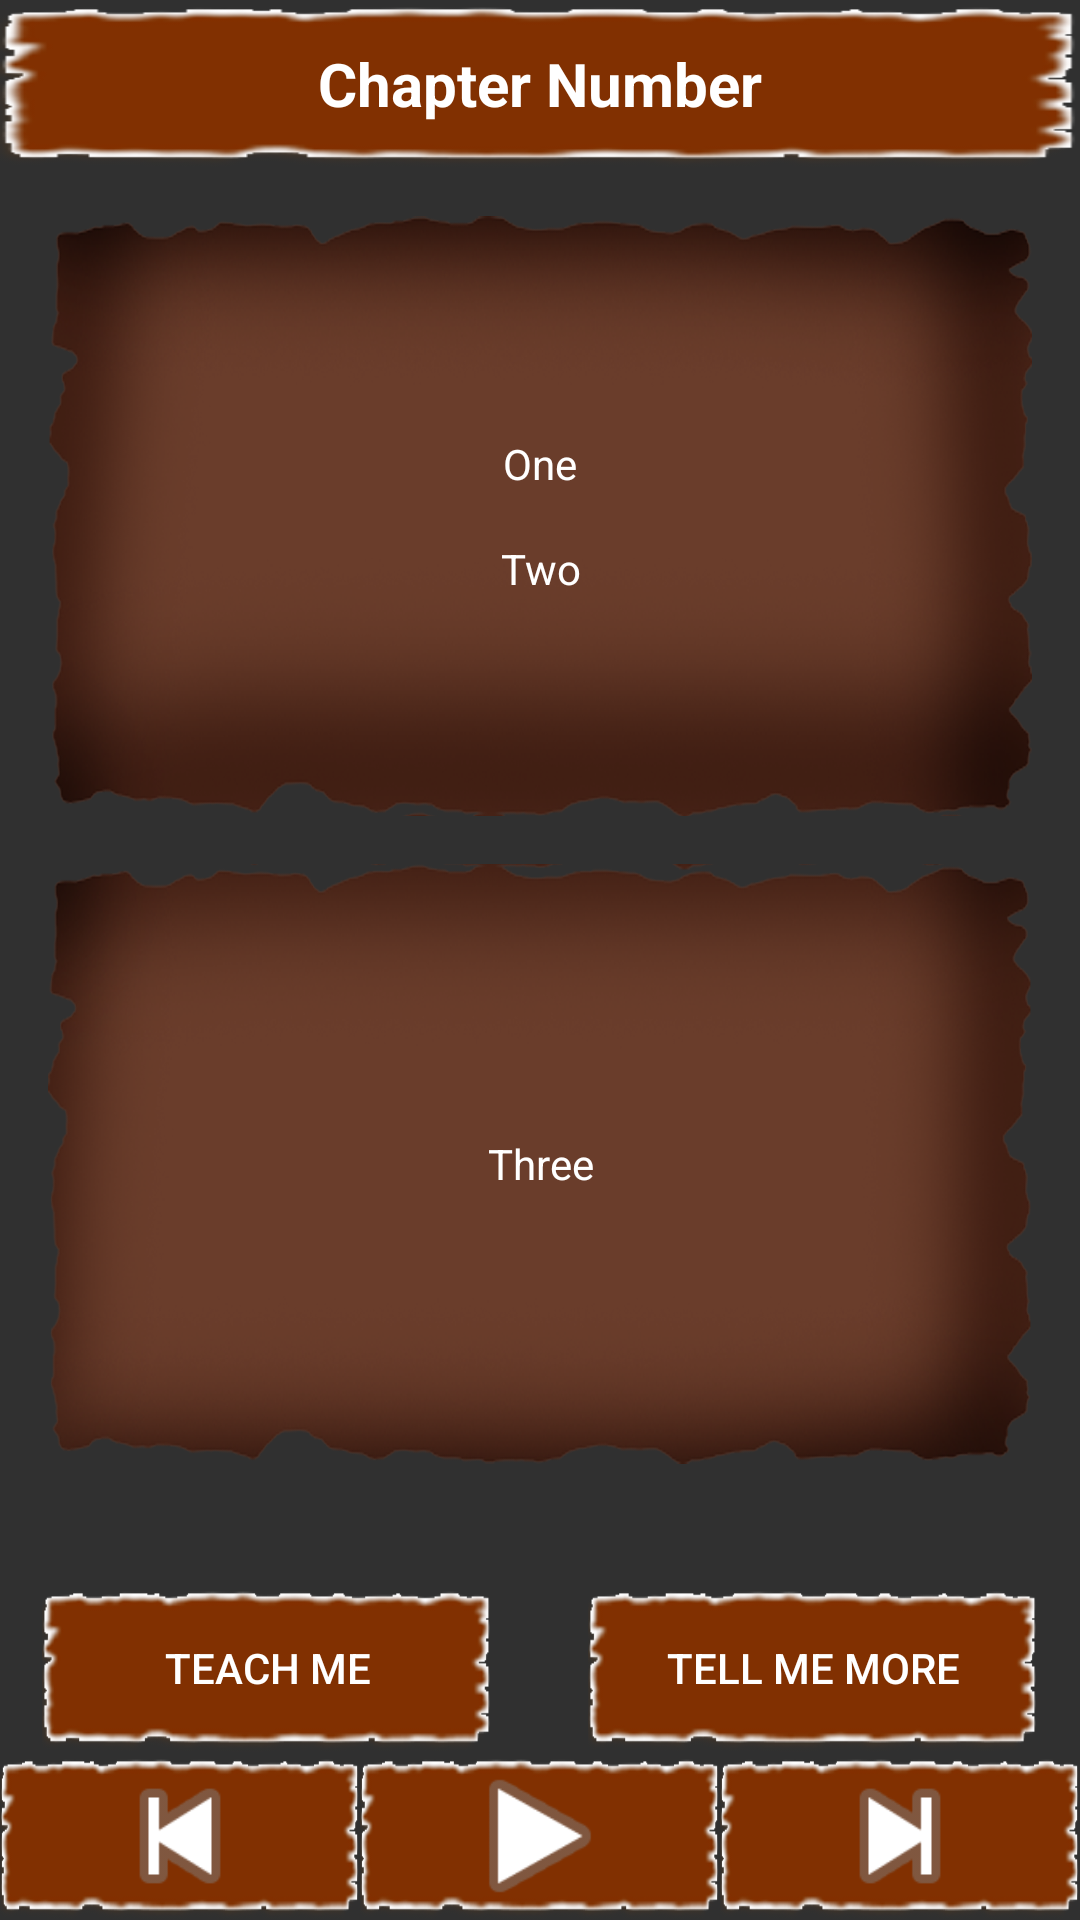

Screen size 1080 x 1920. Icon name, then its box in pixels as (left=x1, top=y1, right=x2, bottom=y2):
next: (left=721, top=1760, right=1078, bottom=1911)
play: (left=361, top=1760, right=718, bottom=1911)
previous: (left=1, top=1760, right=358, bottom=1911)
